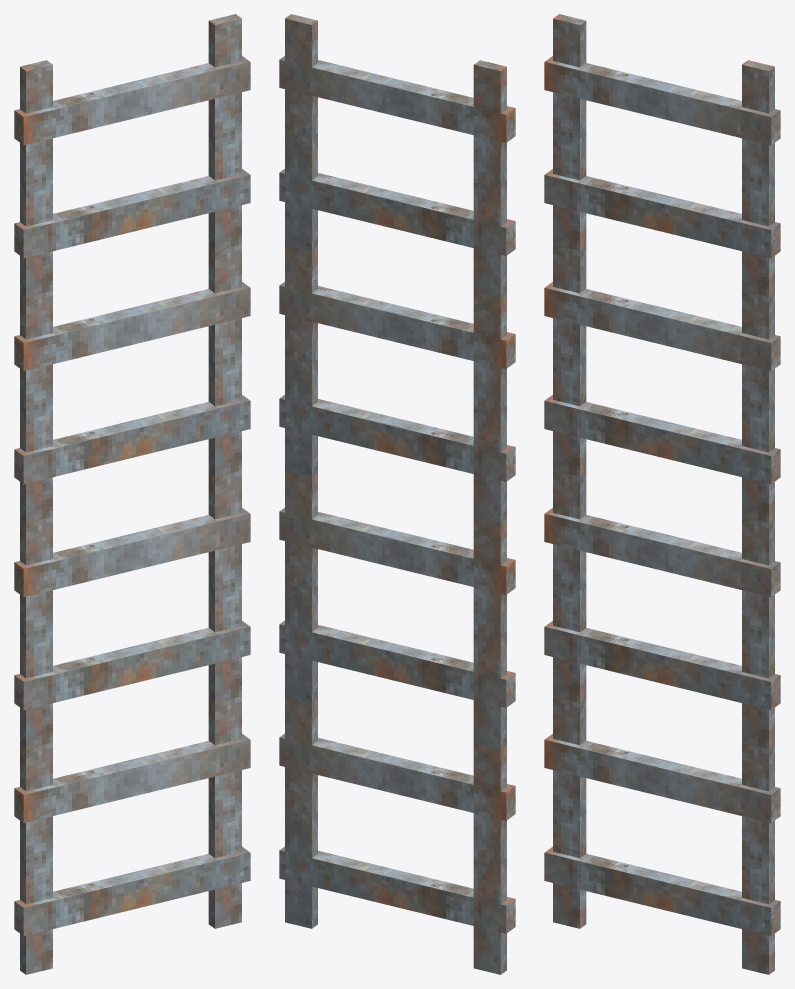
The model's file is rail 3.fbx.
3 renders of one model, left to right at view 1: azimuth 30°, elevation 25°; view 2: azimuth 150°, elevation 25°; view 3: azimuth 330°, elevation 25°, orthographic.
Parts seen in each view (by area): view 1: rail; view 2: rail; view 3: rail.
Part boxes in pixels (left/top/right/bottom): rail: left=14, top=14, right=250, bottom=974; rail: left=279, top=14, right=515, bottom=974; rail: left=544, top=14, right=780, bottom=974.
Bounding box in the file's own units: 105 × 400 × 7.5.
1 material, 1 textured.
